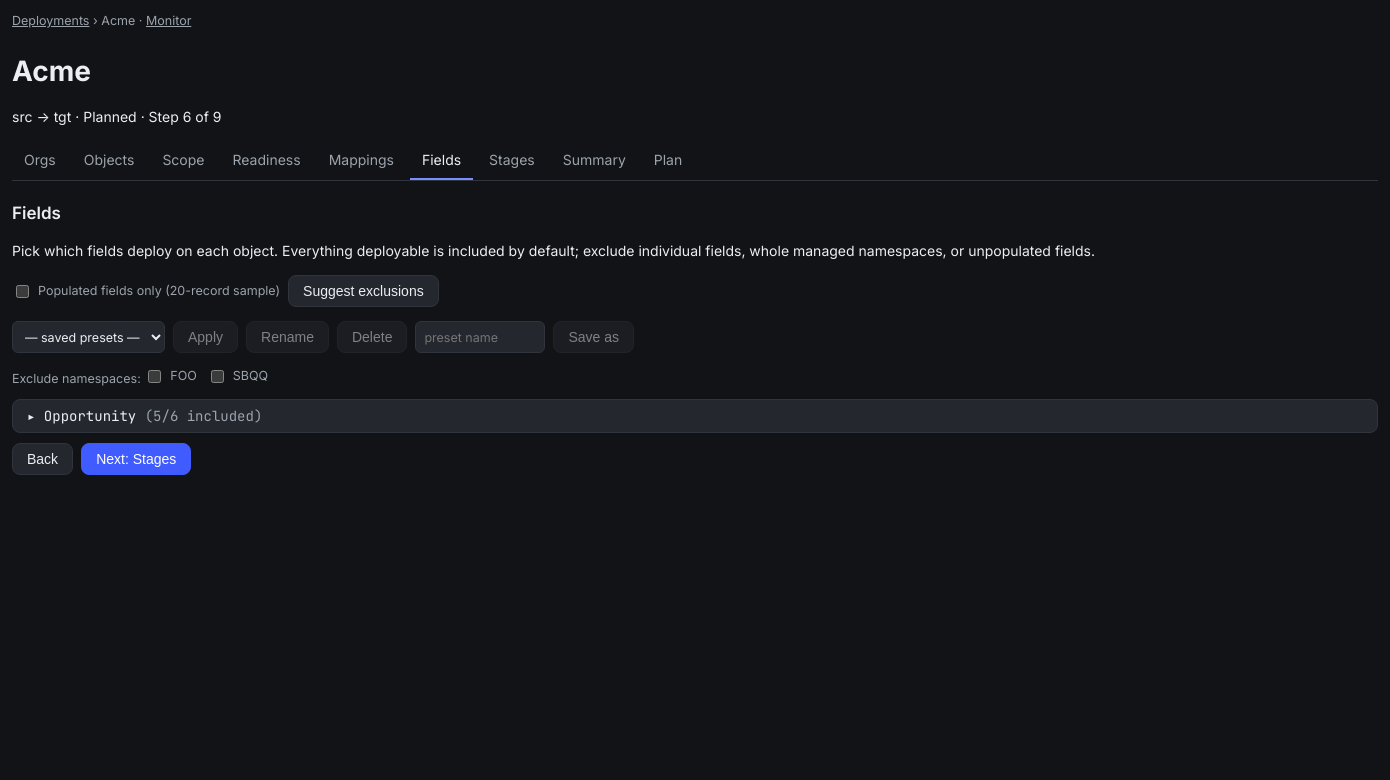
Test: StepFields (5B.6) › lists deployable source∩target fields, dropping auto-number/formula/source-only
expect the heading "Fields" is shown: met, box [12,202,61,222]
Click the button "▸ Opportunity (5/6 included)". click: coordinates (90, 416)
box: [12,399,1378,433]
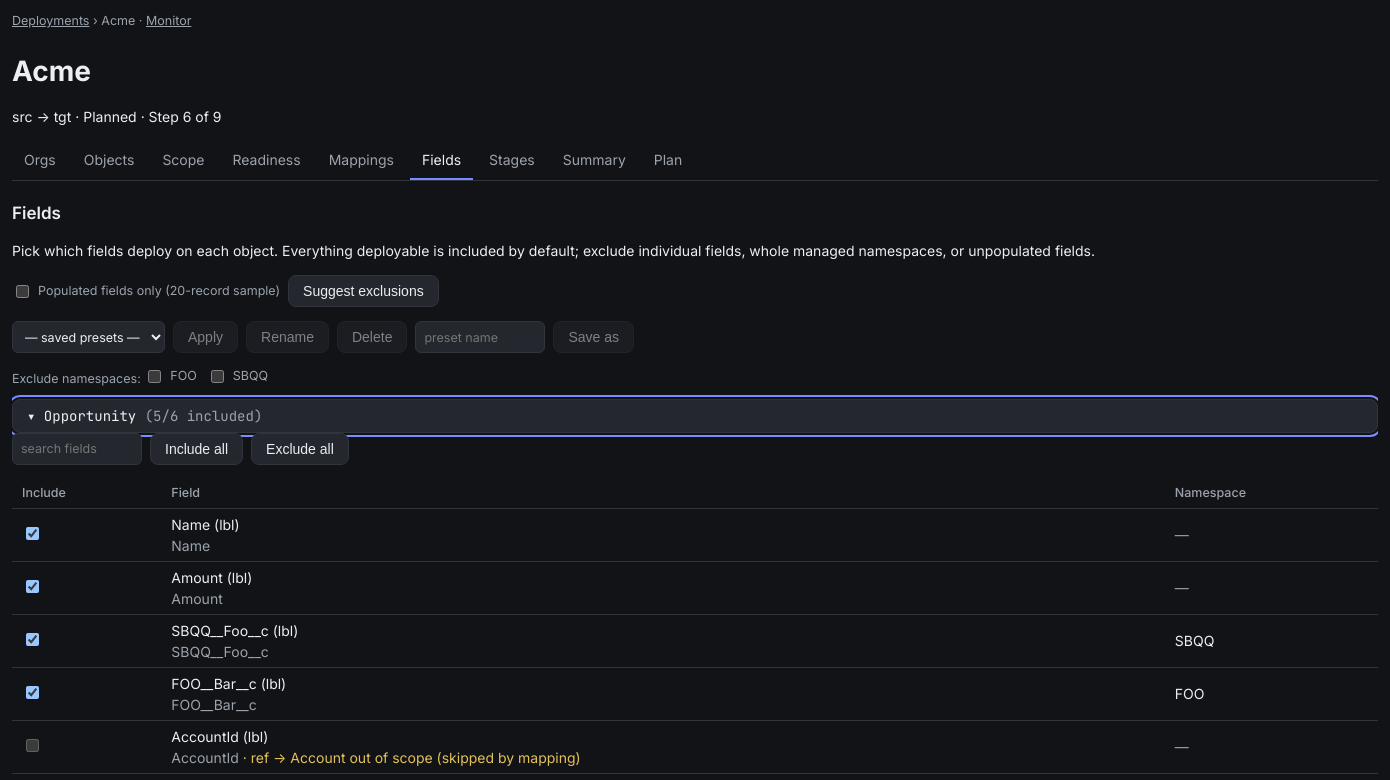
expect the text "Name" is shown: met, box [171,536,210,554]
expect the text "Amount" is shown: met, box [171,590,223,606]
expect the text "SBQQ__Foo__c" is shown: met, box [171,642,269,660]
